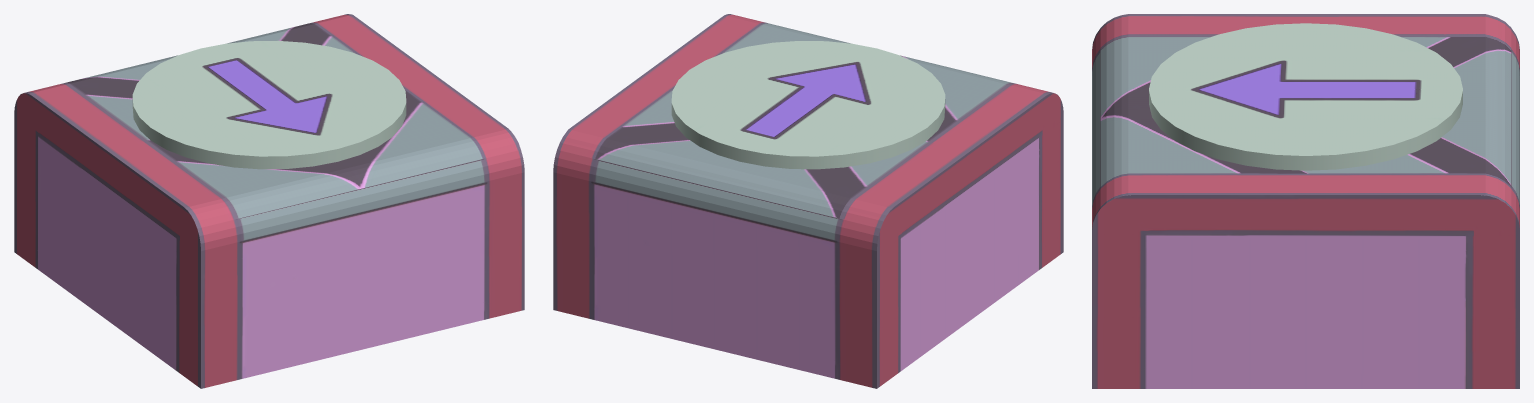
File: zwrotnica_v1.glb
3 views of the same model, side by side, from view 1: azimuth 30°, elevation 25°; view 2: azimuth 150°, elevation 25°; view 3: azimuth 270°, elevation 25° (orthographic). The views are drawn at different scales.
Parts seen in each view (by area): view 1: Cube.002, Plane.002; view 2: Cube.002, Plane.002; view 3: Cube.002, Plane.002.
Part boxes in pixels (x1,y1,x2,y2): Cube.002: (14, 40, 524, 388); Plane.002: (18, 14, 520, 228); Cube.002: (553, 41, 1063, 388); Plane.002: (557, 14, 1058, 228); Cube.002: (1092, 23, 1519, 388); Plane.002: (1100, 14, 1511, 207).
Bounding box in the file's own units: 2 × 1.08 × 2.
4 materials, 4 textured.
